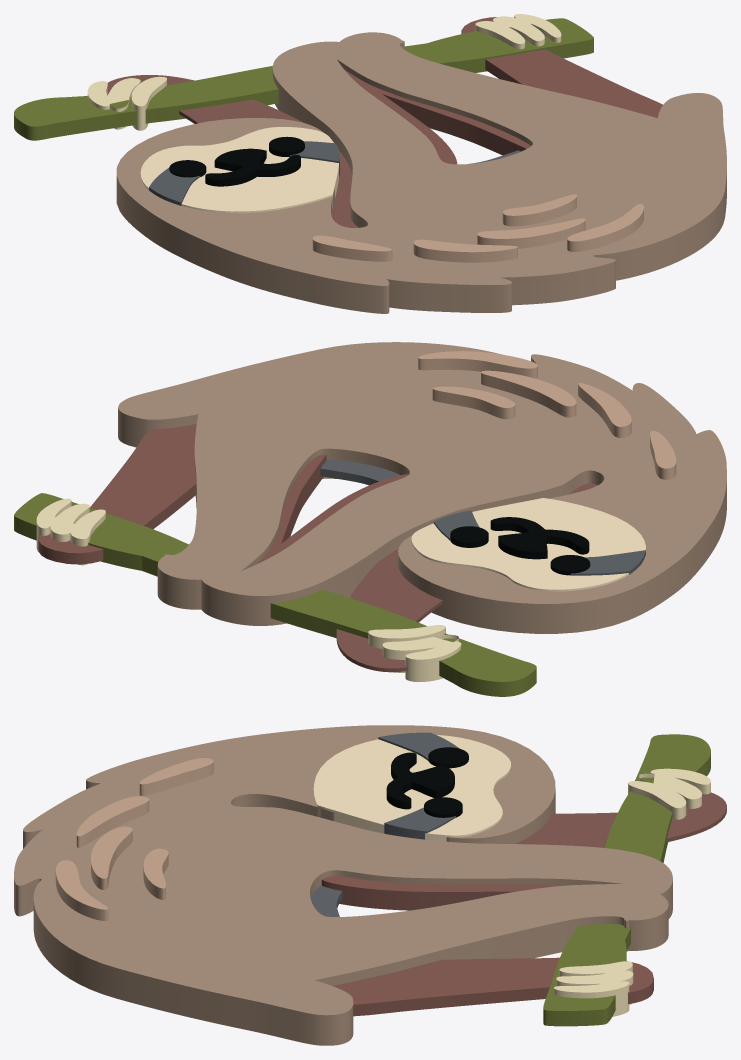
File: emoji_u1f9a5.glb
The picture shows the model from 3 angles, top to bottom: view 1: azimuth 30°, elevation 25°; view 2: azimuth 150°, elevation 25°; view 3: azimuth 270°, elevation 25°; orthographic projection. The views are drawn at different scales.
Parts seen in each view (by area): view 1: emoji_u1f9a5; view 2: emoji_u1f9a5; view 3: emoji_u1f9a5.
Boxes of the visible parts, bbox=[...] form: emoji_u1f9a5: bbox=[14, 14, 726, 313]; emoji_u1f9a5: bbox=[14, 342, 726, 696]; emoji_u1f9a5: bbox=[14, 725, 726, 1045].
Bounding box in the file's own units: 0.0325 × 0.0028 × 0.0337.
